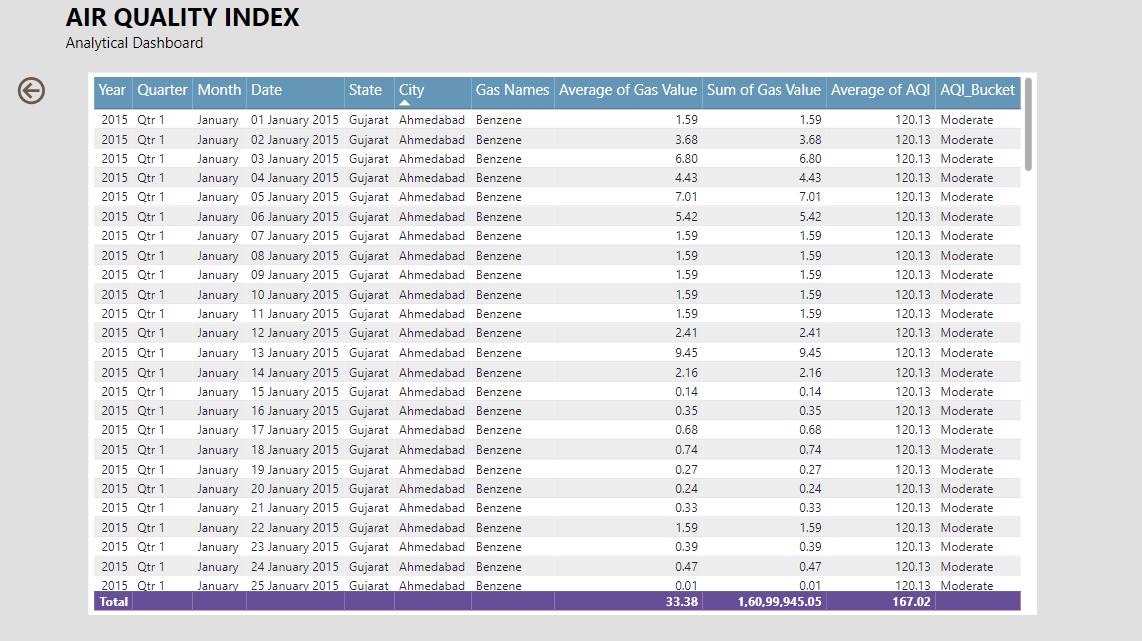

What the dashboard file says about the page in this screenshot:
{"tool":"powerbi","page":{"name":"Drill Through","canvas":[1300,720],"ordinal":3},"visuals":[{"type":"textbox","box":[107.2,15.9,276.8,84.1],"z":0},{"type":"tableEx","fields":{"Values":["Calendar.Year","Calendar.Date.Variation.Date Hierarchy.Quarter","Calendar.Date.Variation.Date Hierarchy.Month","air_quality.Date","air_quality.State","air_quality.City","air_quality.Gas Names","Avg(air_quality.Gas Value)","Sum(air_quality.Gas Value)1","Avg(air_quality.AQI)","air_quality.AQI_Bucket"]},"box":[136.5,100,1025.7,586.5],"z":1000},{"type":"actionButton","box":[55.4,100,51.4,39.2],"z":2000}]}

Visuals, with their boxes on the page's 1300x720 design canvas (x1, y1, x2, y2). These are canvas units, not pixel positions in the 1142x641 screenshot, which may show the page scaled, cropped or inside an application window:
textbox: detection(107, 16, 384, 100)
tableEx - Calendar.Year x Calendar.Date.Variation.Date Hierarchy.Quarter: detection(136, 100, 1162, 686)
actionButton: detection(55, 100, 107, 139)
